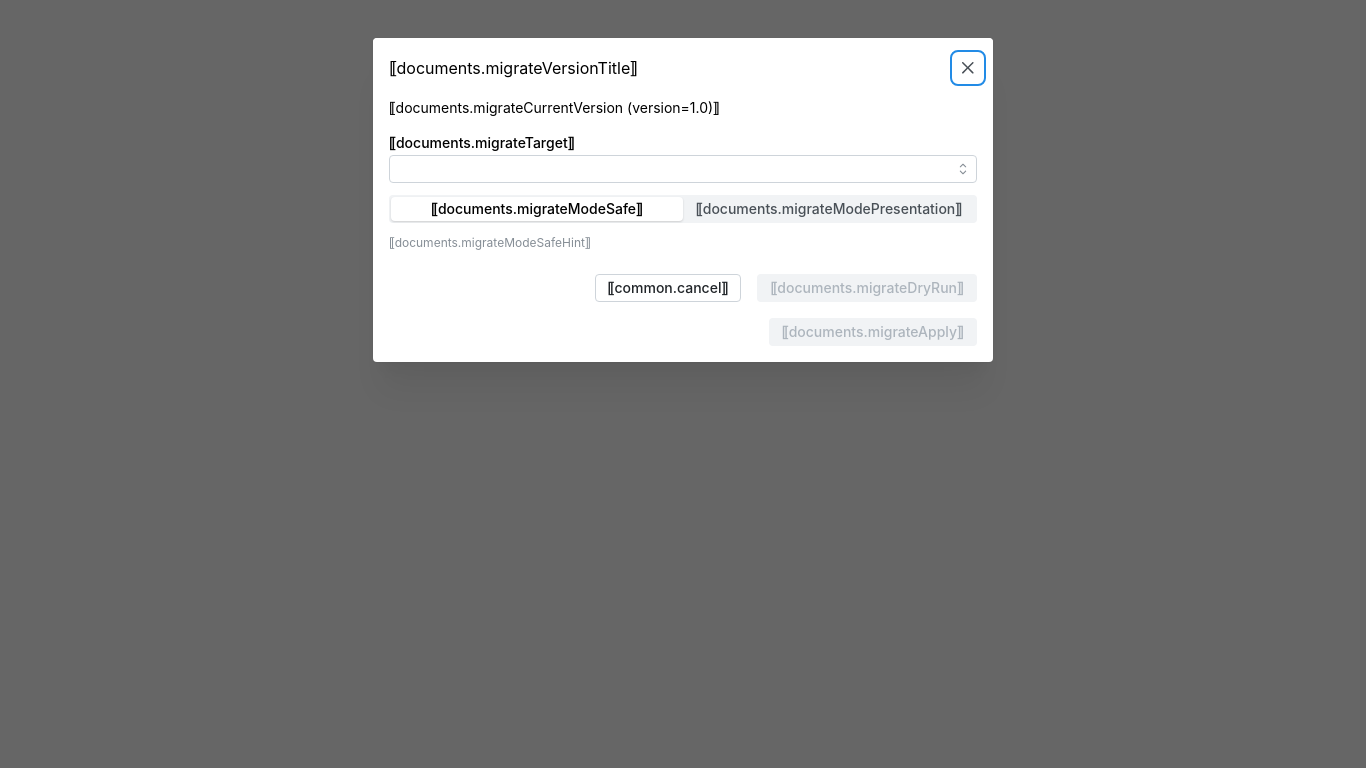
Test: VersionMigrationDialog: гонка сухого прогону і подвійне сповіщення › L8-14: відмова сухого прогону - рядок у діалозі, без другого тосту
Click the field labelled "⟦documents.migrateTarget⟧": (683, 170) [389,156,977,184]
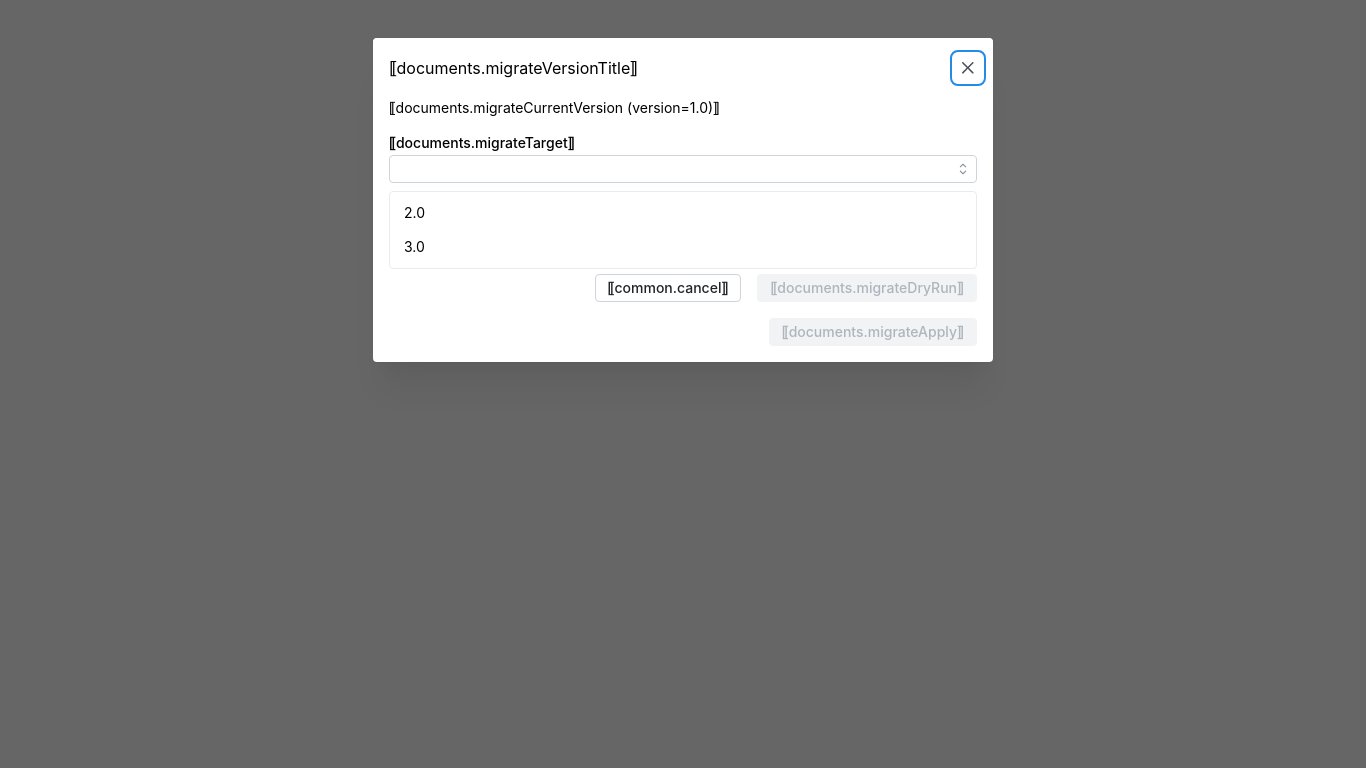
Click the option "2.0": (415, 213) [404,204,425,222]
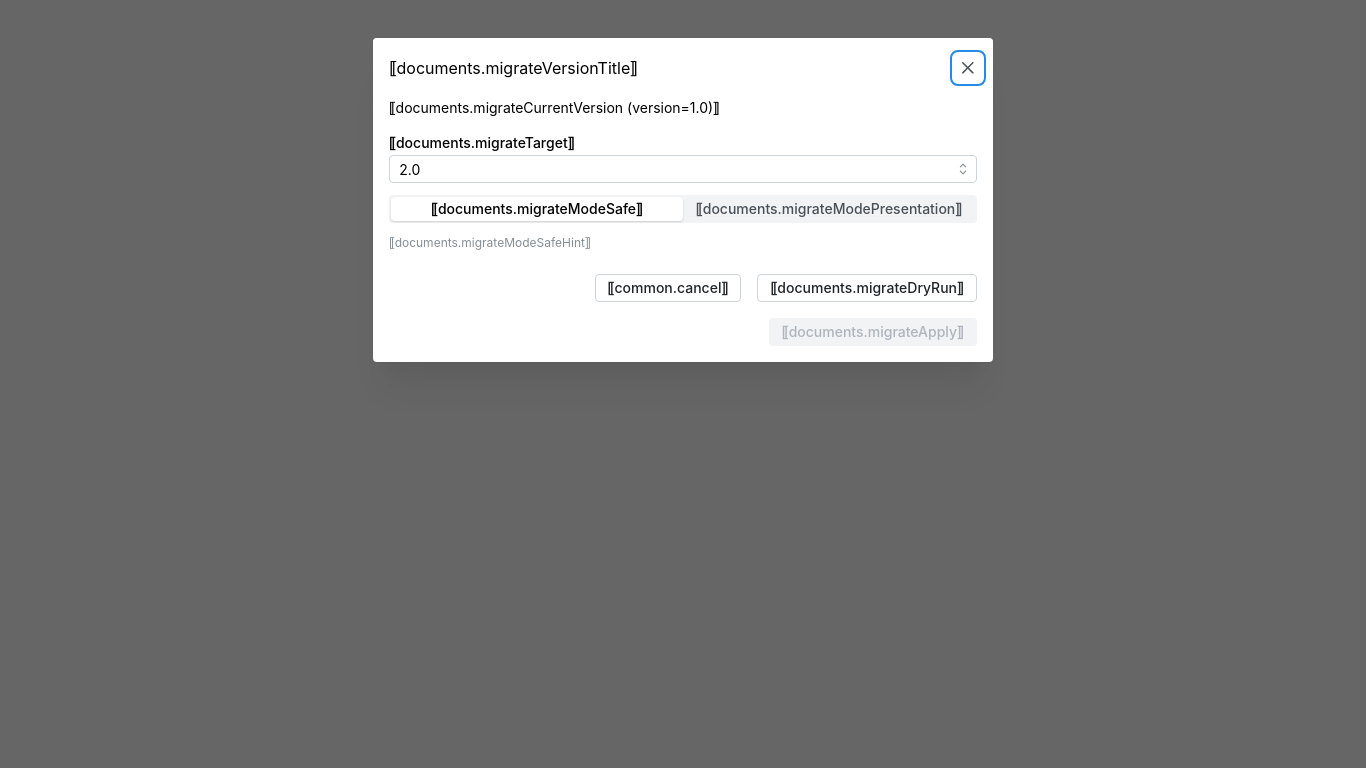
Click the button with test id "migrate-dry-run": (867, 288) [757,274,977,302]
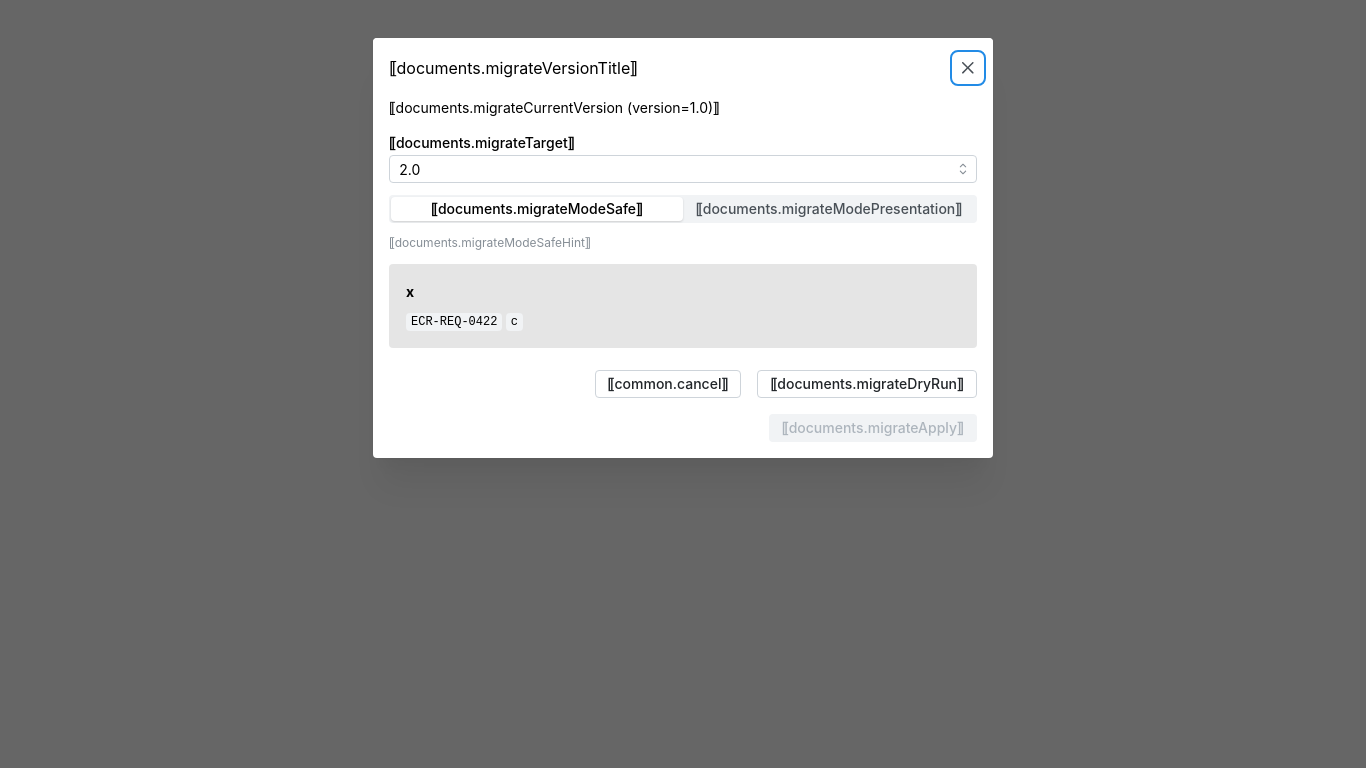
Expected: the message "x ECR-REQ-0422 c" is shown, [389,264,977,349]
